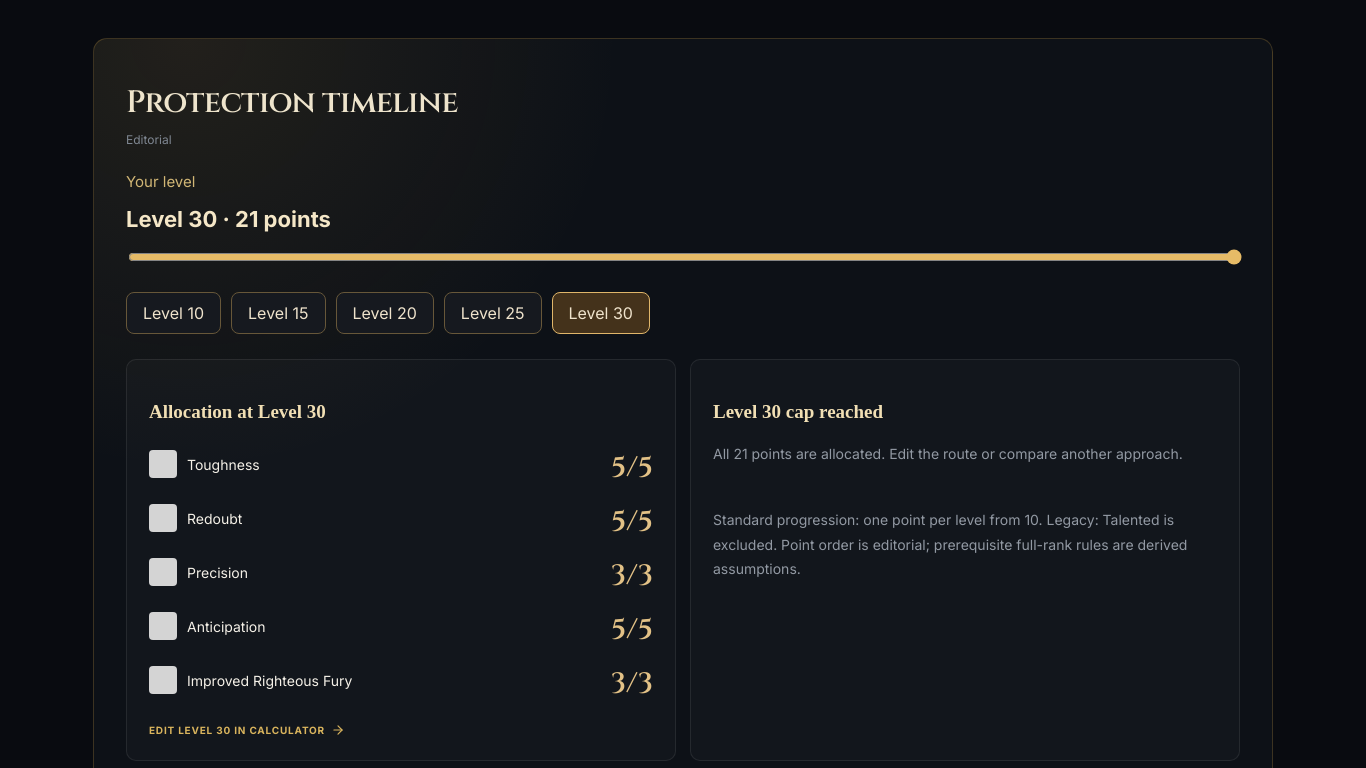
updates Protection allocation and Next Talent together
Step 1. Click the button "Level 20" → [385, 313], box [336,292,434,334]
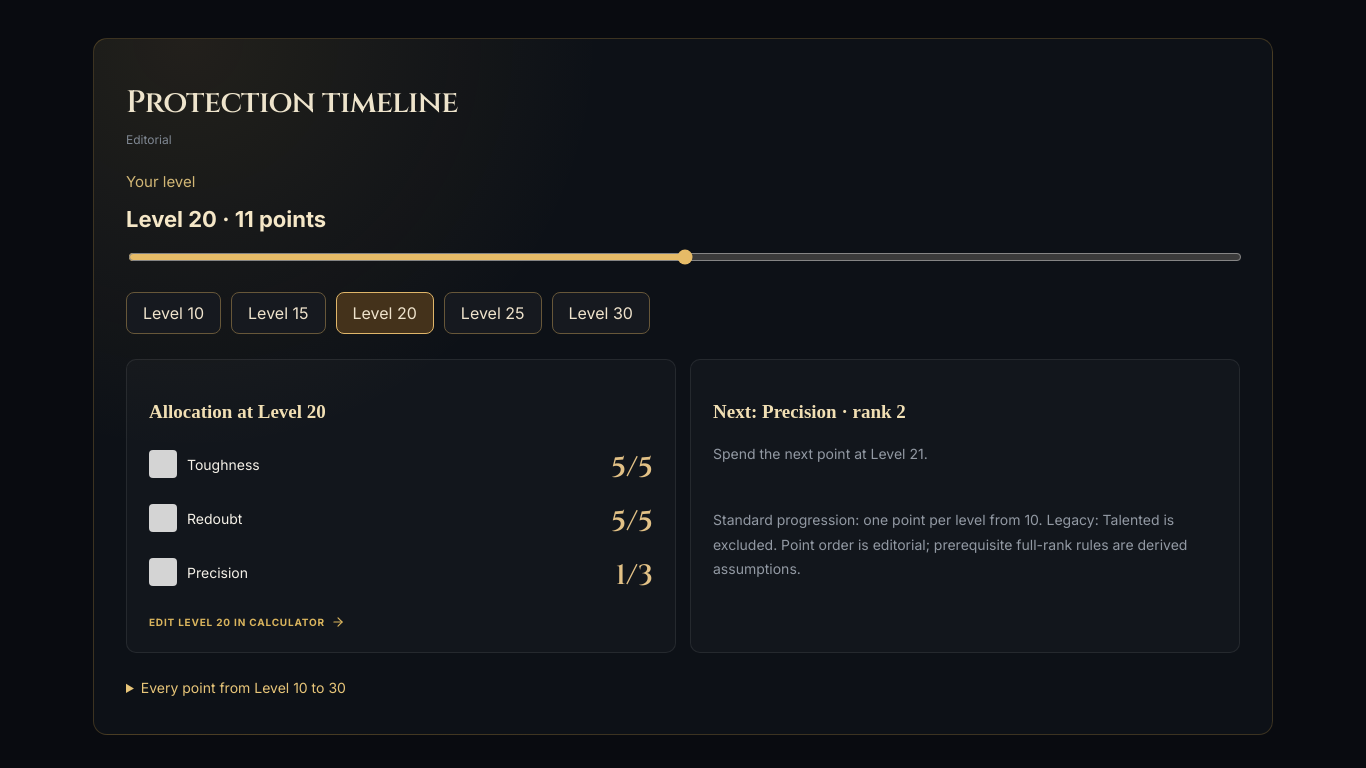
Now the heading "Next: Precision · rank 2" is shown, box [713,401,906,422]
